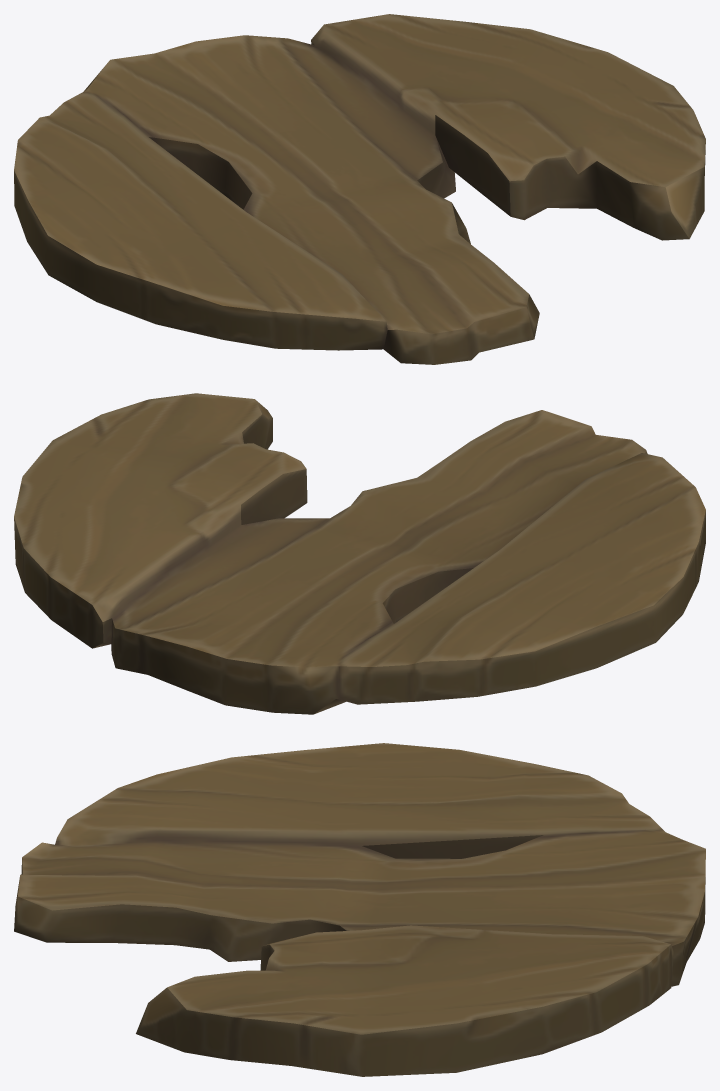
File: SM_FW01_Barrel_Lid_B_01.fbx
The picture shows the model from 3 angles, top to bottom: view 1: azimuth 30°, elevation 25°; view 2: azimuth 150°, elevation 25°; view 3: azimuth 270°, elevation 25°; orthographic projection.
Visible parts, largest first — view 1: SM_FW01_Barrel_Lid_B_01_LOD0; view 2: SM_FW01_Barrel_Lid_B_01_LOD0; view 3: SM_FW01_Barrel_Lid_B_01_LOD0.
Part boxes in pixels (x1=…): SM_FW01_Barrel_Lid_B_01_LOD0: x1=14, y1=14, x2=705, y2=364; SM_FW01_Barrel_Lid_B_01_LOD0: x1=14, y1=393, x2=705, y2=714; SM_FW01_Barrel_Lid_B_01_LOD0: x1=14, y1=743, x2=705, y2=1076.
Size of what is drawn, in the model's own units: 0.713 by 0.0731 by 0.694.
